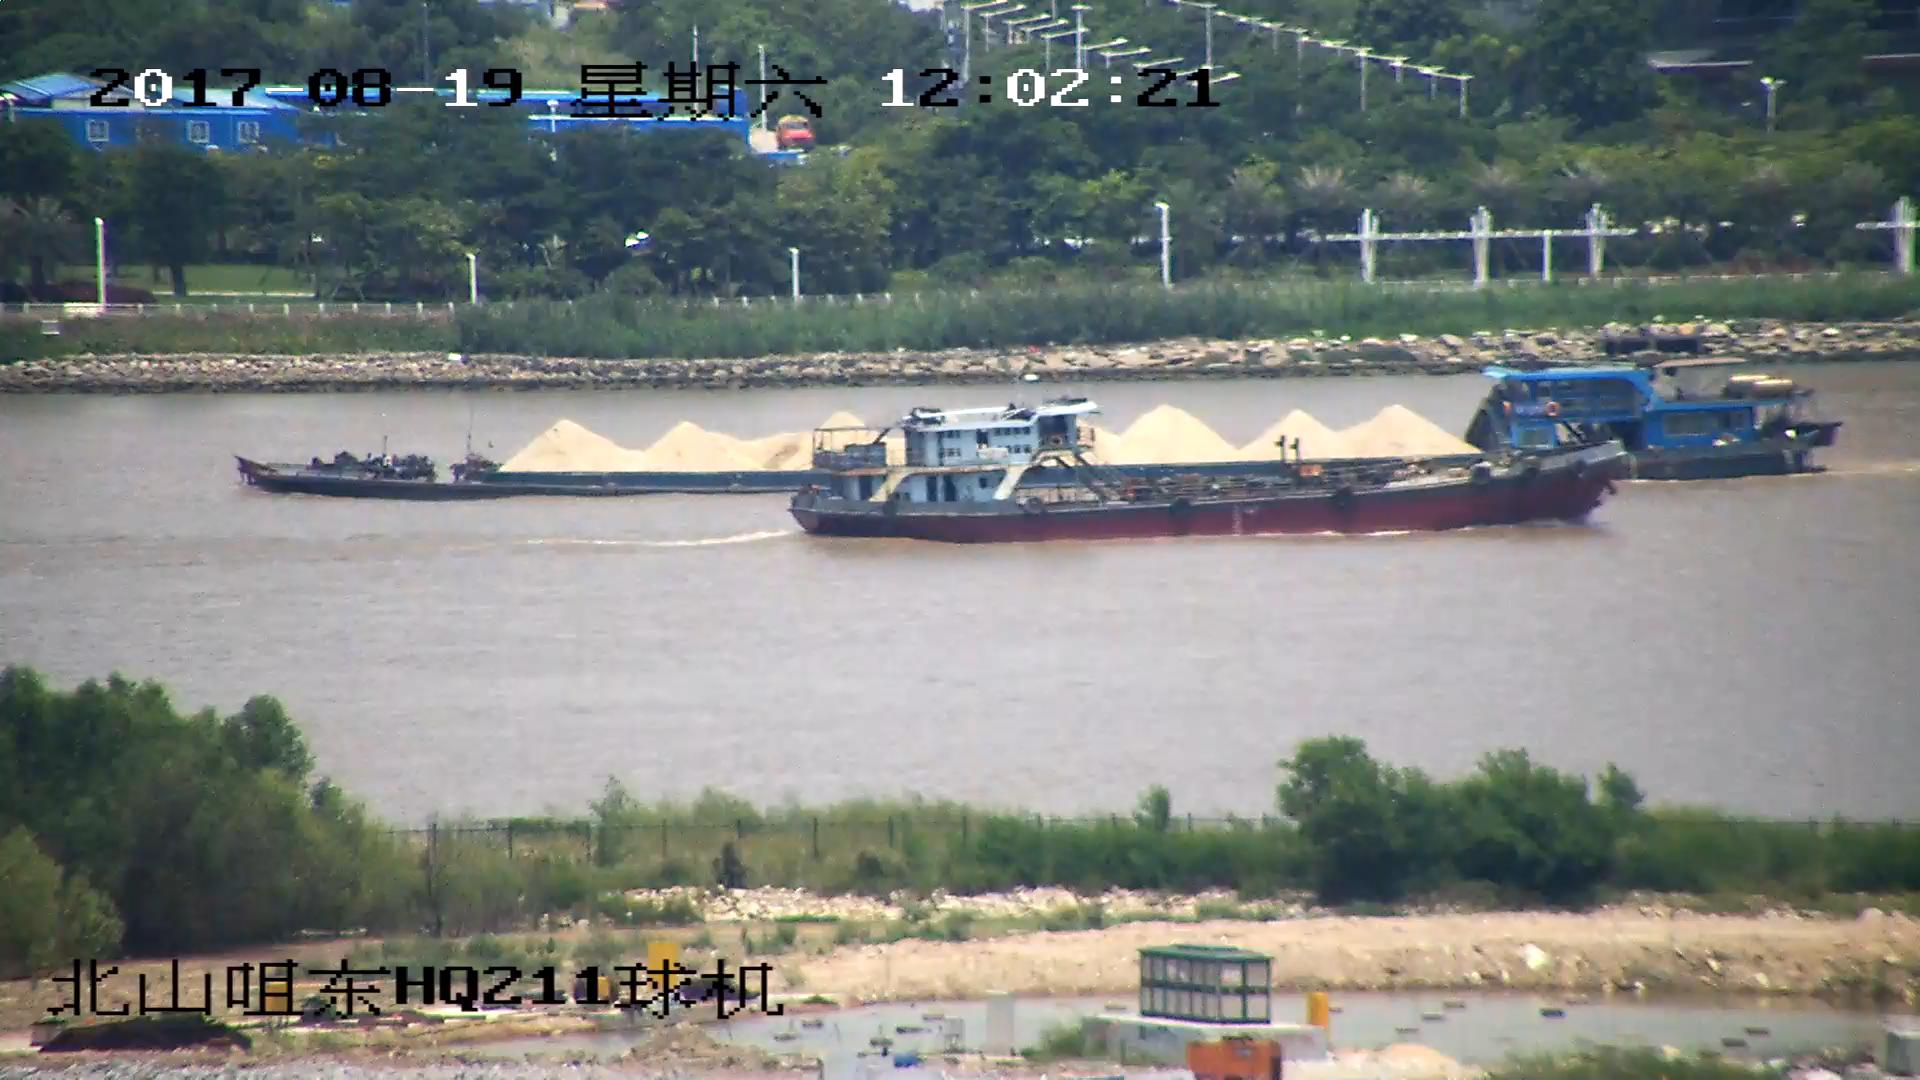bulk cargo carrier: (795, 409, 1630, 545)
ore carrier: (234, 367, 1847, 506)
